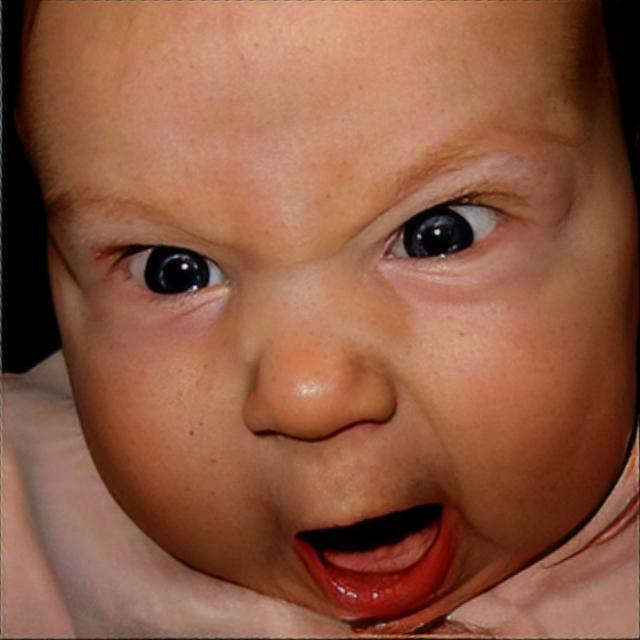anger: (74, 0, 604, 626)
